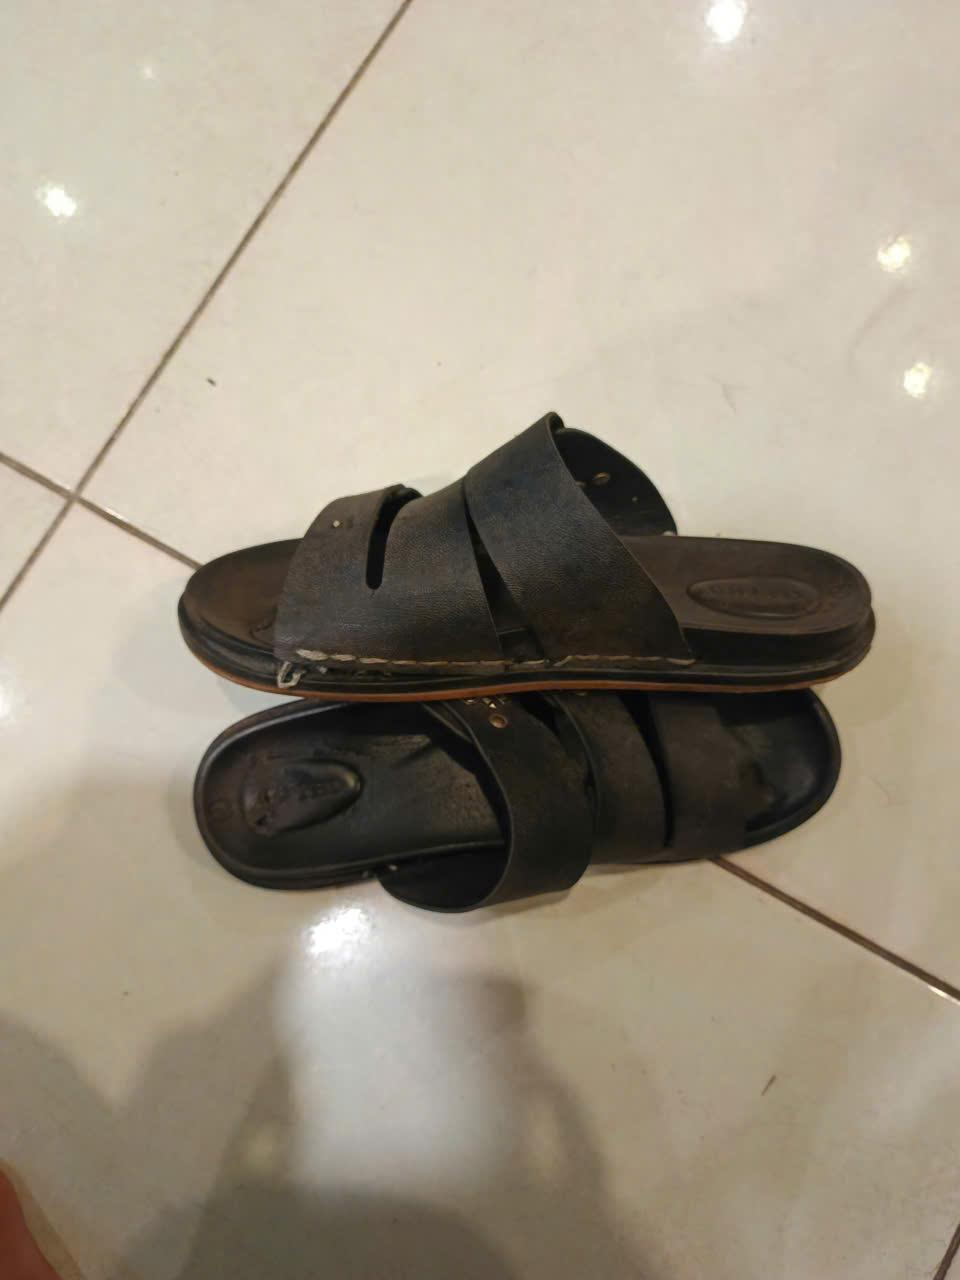Con lai: (177, 413, 874, 691), (198, 695, 844, 911)
